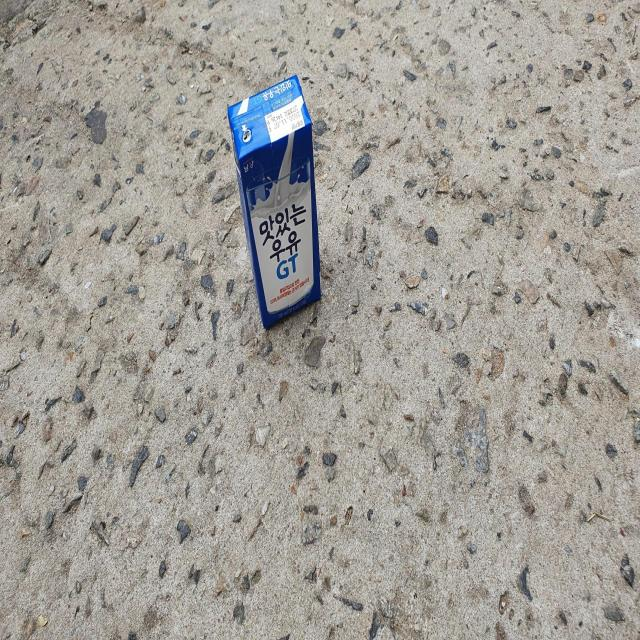paperpack: (228, 74, 321, 327)
